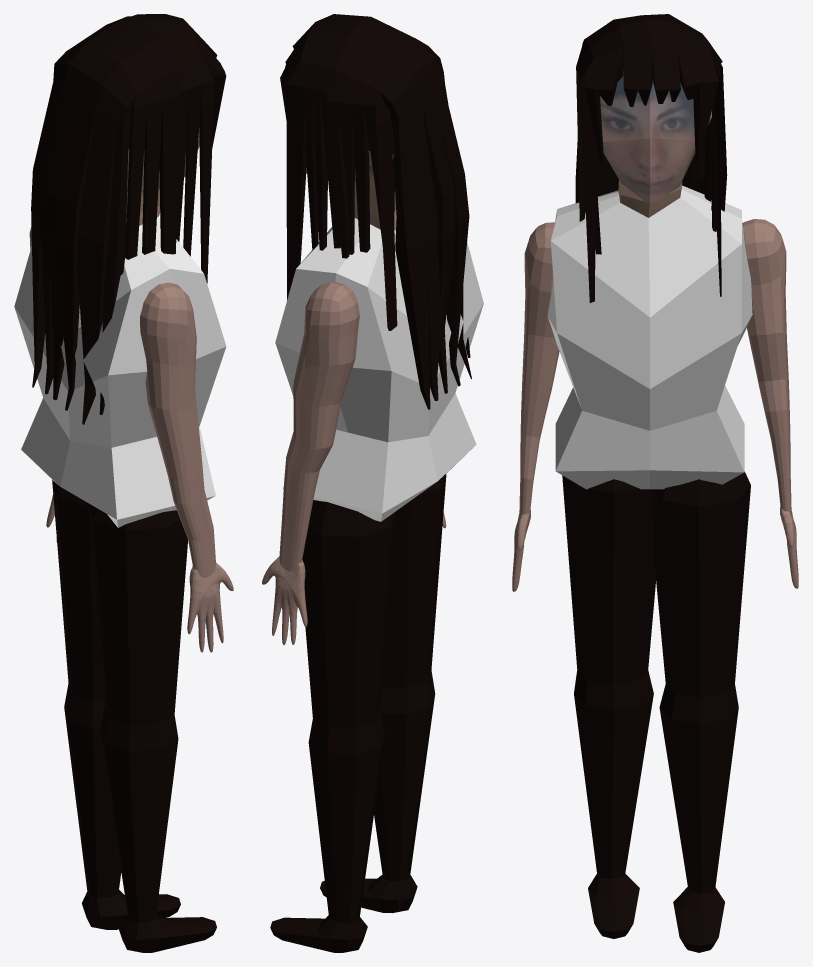
The model's file is FotiniskeletonAnimationsALLWithoutSKell2.fbx.
3 views of the same model, side by side, from view 1: azimuth 30°, elevation 25°; view 2: azimuth 150°, elevation 25°; view 3: azimuth 270°, elevation 25° (orthographic).
Parts seen in each view (by area): view 1: Cube.003, Roundcube.003, Cube, Roundcube.004, Cube.001; view 2: Cube.003, Roundcube.004, Cube, Roundcube.003, Cube.002; view 3: Cube, Roundcube.004, Roundcube.003, Cube.003, Cube.002, Cube.001.
Part boxes in pixels (x1,y1,x2,y2): Cube.003: (31,14,226,424); Roundcube.003: (88,503,216,952); Cube: (14,73,226,527); Roundcube.004: (52,480,180,929); Cube.001: (140,282,233,652); Cube.003: (280,14,471,409); Roundcube.004: (270,500,396,952); Cube: (275,105,483,521); Roundcube.003: (320,474,446,913); Cube.002: (262,282,359,644); Cube: (547,70,752,489); Roundcube.004: (654,471,750,952); Roundcube.003: (562,475,655,938); Cube.003: (575,14,727,302); Cube.002: (742,219,798,588); Cube.001: (512,222,559,591).
Size of the model in its own units: 169 by 930 by 265.
